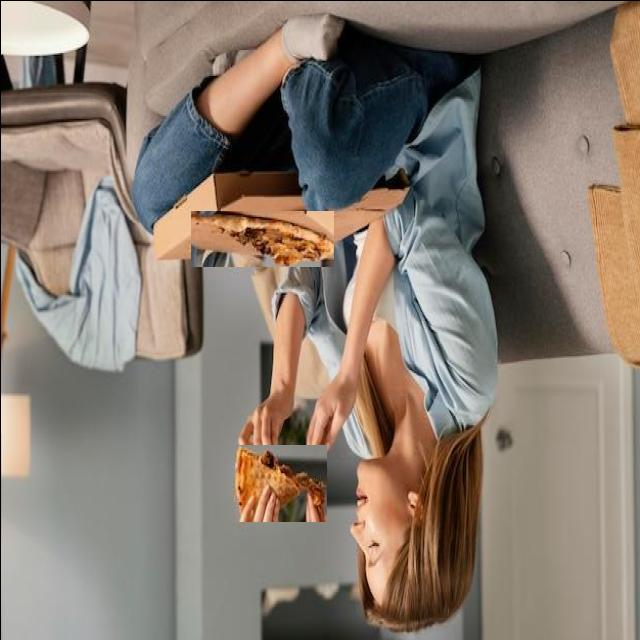pizza: (188, 210, 332, 266), (234, 444, 326, 521)
